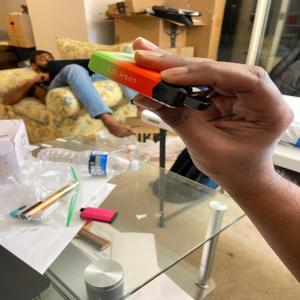Swift-E-Ciggirate: (87, 46, 217, 114)
